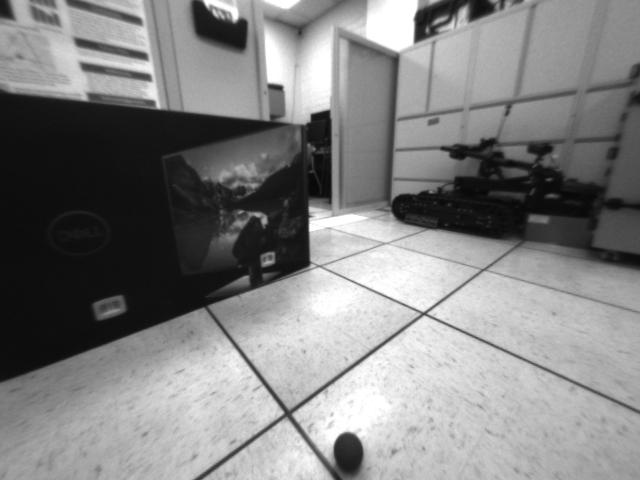dogtoy: (329, 424, 370, 479)
